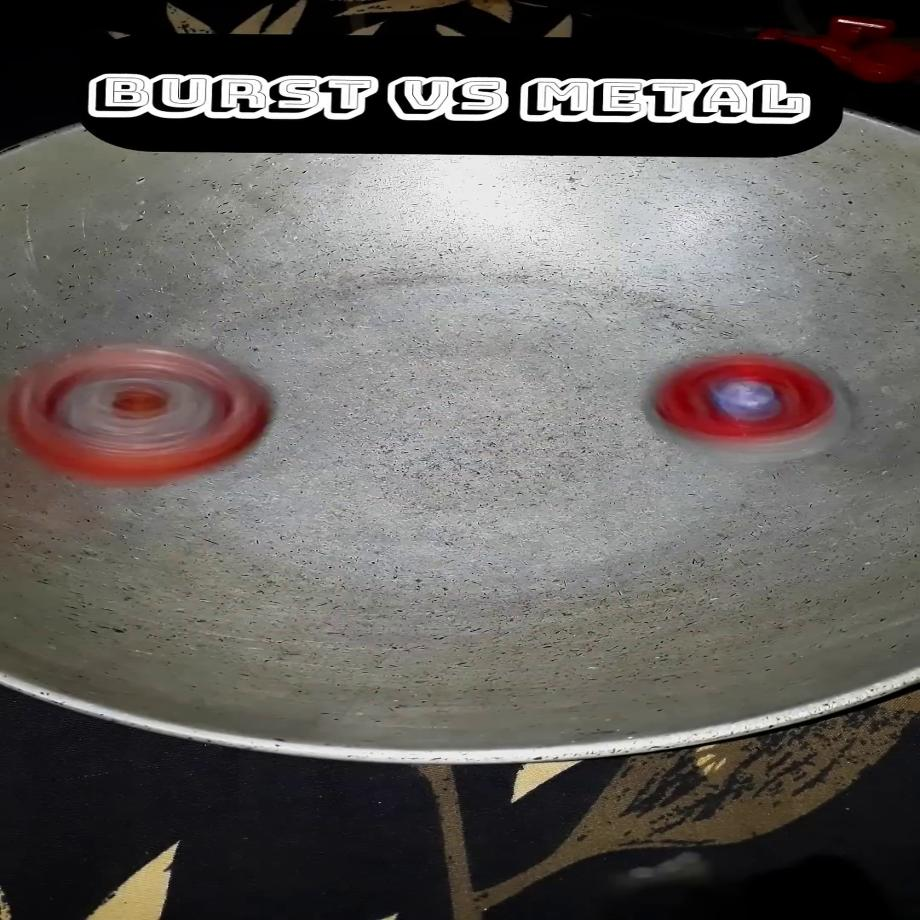beyblade: (0, 338, 300, 492), (626, 345, 869, 476)
